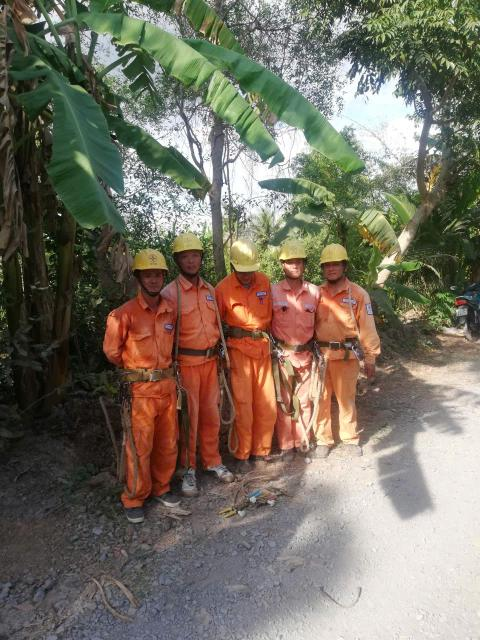harness: (116, 356, 187, 390), (218, 308, 277, 346), (311, 326, 366, 358), (163, 334, 220, 362), (273, 334, 328, 358)
helmet: (226, 241, 263, 278), (317, 228, 346, 273), (128, 251, 178, 276), (276, 240, 308, 272), (175, 228, 208, 258)
shoes: (116, 498, 154, 533), (195, 451, 229, 478), (226, 444, 253, 474), (308, 436, 335, 465), (170, 466, 198, 489), (153, 491, 182, 508), (275, 439, 293, 466), (256, 446, 275, 470), (344, 438, 362, 459)
